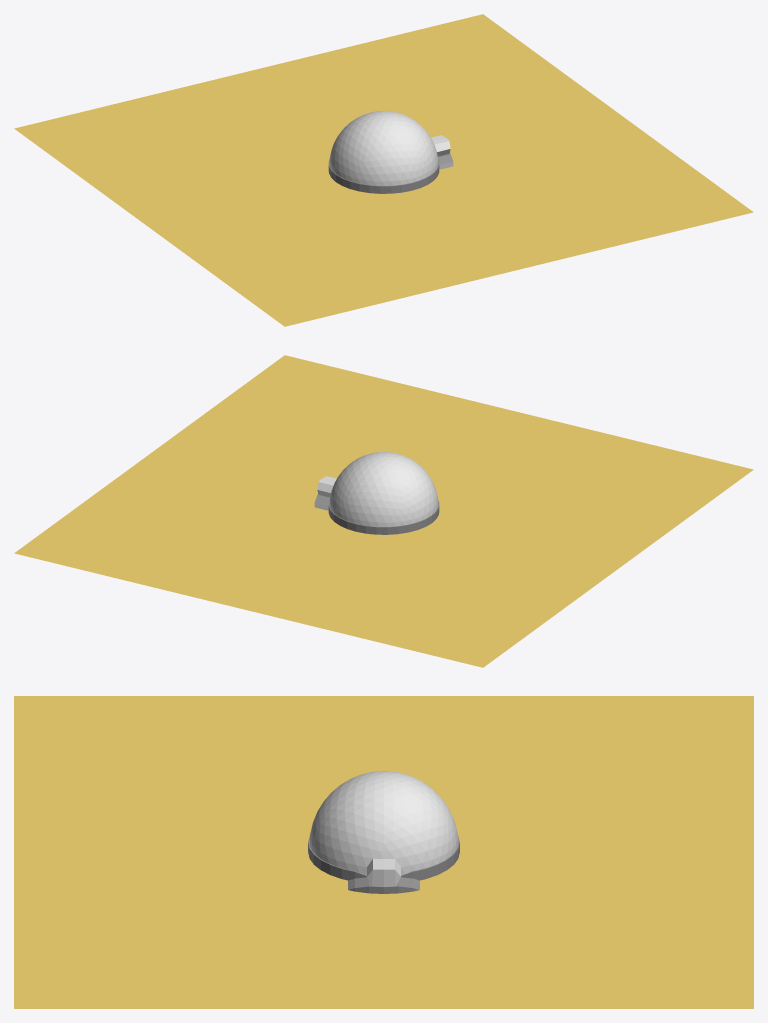
Rendered from house.fbx.
3 views of the same model, one above another, from view 1: azimuth 30°, elevation 25°; view 2: azimuth 150°, elevation 25°; view 3: azimuth 270°, elevation 25° (orthographic). The views are drawn at different scales.
Visible parts, largest first — view 1: ground, dome, floor; view 2: ground, dome, floor; view 3: ground, dome, floor, windows.
Part boxes in pixels (x1,y1,x2,y2): ground: (14, 14, 753, 326); dome: (329, 111, 438, 185); floor: (328, 153, 453, 193); ground: (14, 355, 753, 667); dome: (329, 452, 438, 526); floor: (314, 494, 439, 534); ground: (14, 696, 753, 1008); dome: (309, 771, 458, 875); floor: (308, 836, 459, 893); windows: (324, 800, 443, 834).
Bounding box in the file's own units: 20000 × 5308 × 20000.
